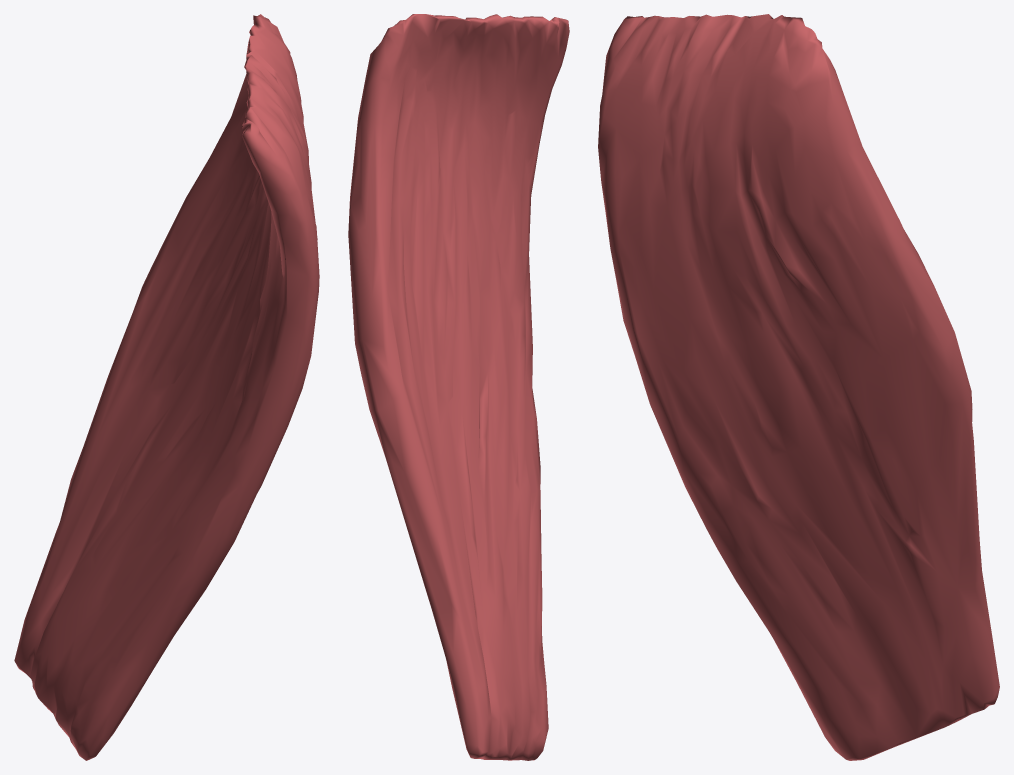
The picture shows the model from 3 angles, left to right: view 1: azimuth 30°, elevation 25°; view 2: azimuth 150°, elevation 25°; view 3: azimuth 270°, elevation 25°; orthographic projection. The views are drawn at different scales.
Parts seen in each view (by area): view 1: 左侧甲杓肌外侧部; view 2: 左侧甲杓肌外侧部; view 3: 左侧甲杓肌外侧部.
Boxes of the visible parts, bbox=[...] form: 左侧甲杓肌外侧部: bbox=[14, 14, 319, 760]; 左侧甲杓肌外侧部: bbox=[348, 14, 569, 760]; 左侧甲杓肌外侧部: bbox=[598, 14, 999, 760].
Bounding box in the file's own units: 0.0088 × 0.0306 × 0.0136.
